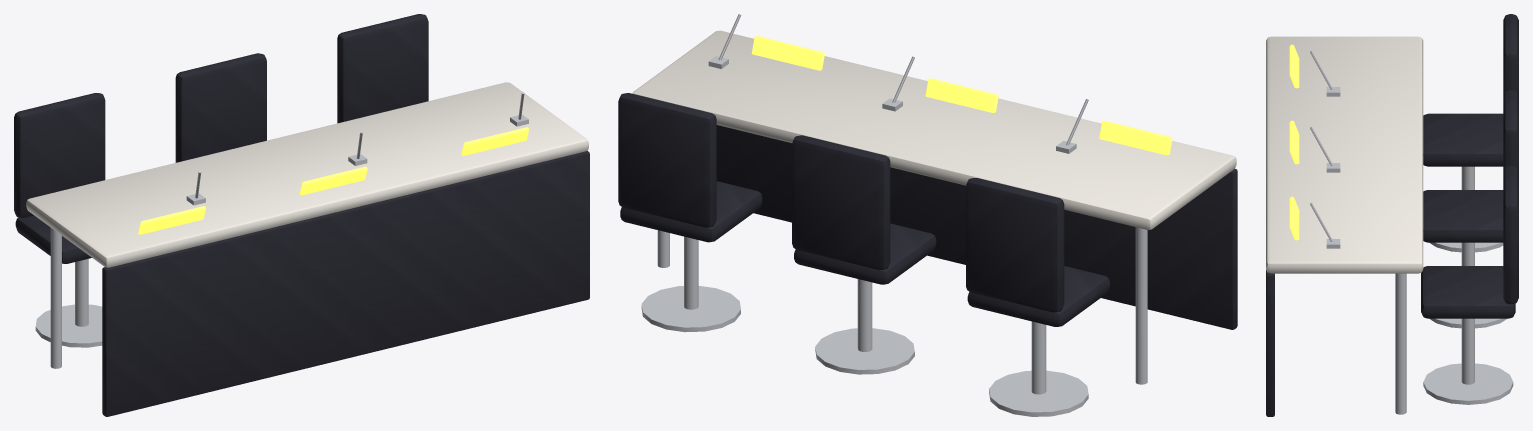
Rendered from mesa-dos-jurados.glb.
3 views of the same model, side by side, from view 1: azimuth 30°, elevation 25°; view 2: azimuth 150°, elevation 25°; view 3: azimuth 270°, elevation 25° (orthographic). The views are drawn at different scales.
Visible parts, largest first — view 1: saia, tampo, encosto, encosto.001, encosto.002, pe, perna, assento, placa.001, placa, placa.002, coluna; view 2: tampo, saia, encosto.002, encosto.001, encosto, pe.001, pe, pe.002, assento.002, assento.001, assento, perna (+6 smaller); view 3: tampo, assento.002, assento, assento.001, pe.002, encosto.002, perna.001, saia, encosto, encosto.001, coluna.002, pe.001 (+6 smaller).
Boxes of the visible parts, <box> form: saia: <box>102,150,589,416</box>; tampo: <box>26,82,588,267</box>; encosto: <box>14,93,105,217</box>; encosto.001: <box>175,53,266,162</box>; encosto.002: <box>337,14,428,123</box>; pe: <box>35,304,102,347</box>; perna: <box>50,228,61,368</box>; assento: <box>15,215,91,263</box>; placa.001: <box>300,166,367,195</box>; placa: <box>138,206,205,234</box>; placa.002: <box>461,127,529,155</box>; coluna: <box>75,259,88,326</box>; tampo: <box>632,30,1236,229</box>; saia: <box>716,125,1237,329</box>; encosto.002: <box>618,93,716,227</box>; encosto.001: <box>792,135,890,269</box>; encosto: <box>966,178,1064,312</box>; pe.001: <box>815,328,914,374</box>; pe: <box>989,370,1088,416</box>; pe.002: <box>641,286,740,332</box>; assento.002: <box>620,181,762,242</box>; assento.001: <box>794,223,936,284</box>; assento: <box>967,266,1109,326</box>; perna: <box>1135,227,1147,384</box>; tampo: <box>1266,36,1423,273</box>; assento.002: <box>1421,266,1515,318</box>; assento: <box>1423,113,1503,166</box>; assento.001: <box>1423,190,1503,242</box>; pe.002: <box>1423,363,1513,404</box>; encosto.002: <box>1503,166,1518,304</box>; perna.001: <box>1395,273,1406,414</box>; saia: <box>1266,270,1274,416</box>; encosto: <box>1503,14,1518,95</box>; encosto.001: <box>1503,90,1518,171</box>; coluna.002: <box>1461,318,1474,384</box>; pe.001: <box>1429,318,1506,328</box>.
Size of the model in its own units: 2.4 by 0.99 by 1.13.
Materials: 4 (1 with a texture image).
